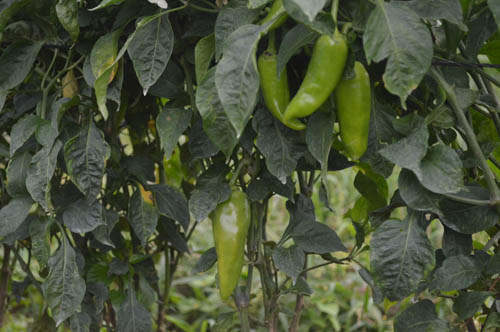ChiliPepper: (285, 35, 344, 130), (212, 193, 251, 300), (339, 62, 370, 163), (261, 54, 302, 129)
